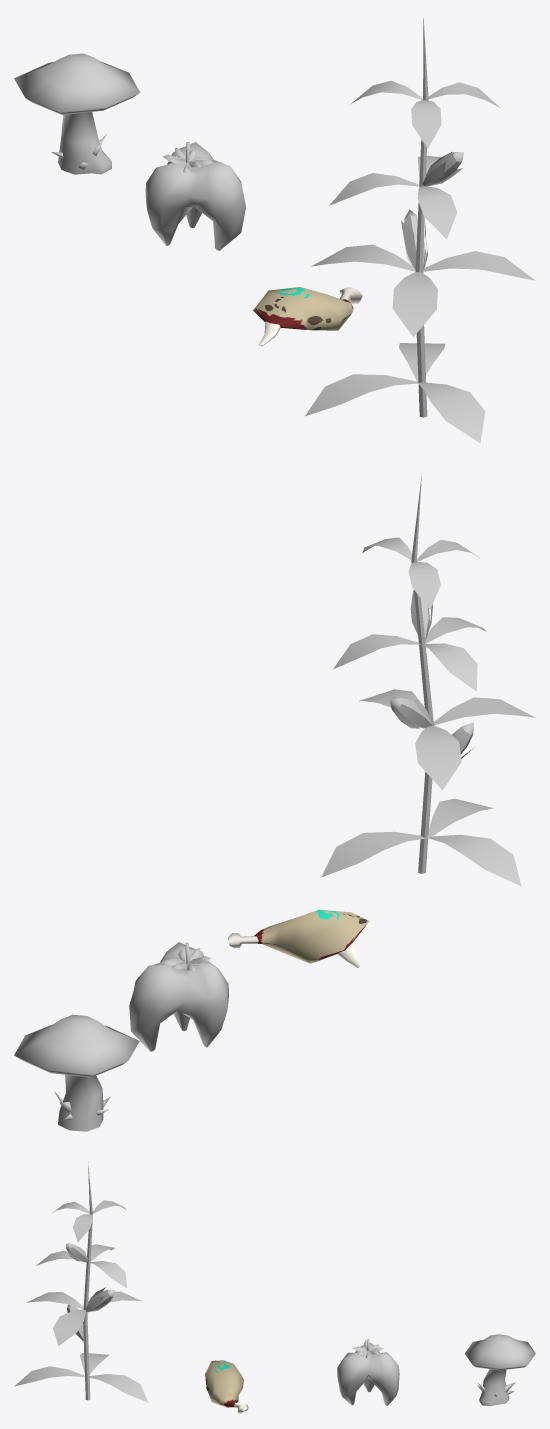
File: testfood.fbx
The picture shows the model from 3 angles, top to bottom: view 1: azimuth 30°, elevation 25°; view 2: azimuth 150°, elevation 25°; view 3: azimuth 270°, elevation 25°; orthographic projection. The views are drawn at different scales.
Parts seen in each view (by area): view 1: polySurface7, polySurface5, polySurface4, Greydeer_Meat, polySurface8, polySurface6; view 2: polySurface7, polySurface5, polySurface4, Greydeer_Meat, polySurface6; view 3: polySurface7, polySurface5, polySurface4, Greydeer_Meat, polySurface6.
Part boxes in pixels (x1,y1,x2,y2): polySurface7: (305, 18, 535, 443); polySurface5: (14, 53, 140, 174); polySurface4: (145, 142, 245, 250); Greydeer_Meat: (253, 287, 362, 345); polySurface8: (422, 152, 463, 186); polySurface6: (401, 209, 427, 272); polySurface7: (321, 474, 535, 886); polySurface5: (14, 1014, 139, 1131); polySurface4: (129, 942, 228, 1051); Greydeer_Meat: (228, 909, 369, 967); polySurface6: (390, 697, 432, 728); polySurface7: (14, 1161, 147, 1402); polySurface5: (465, 1334, 535, 1406); polySurface4: (337, 1339, 399, 1405); Greydeer_Meat: (205, 1360, 248, 1414); polySurface6: (84, 1287, 114, 1312).
Size of the model in its own units: 0.9661 by 1.89 by 3.72.
